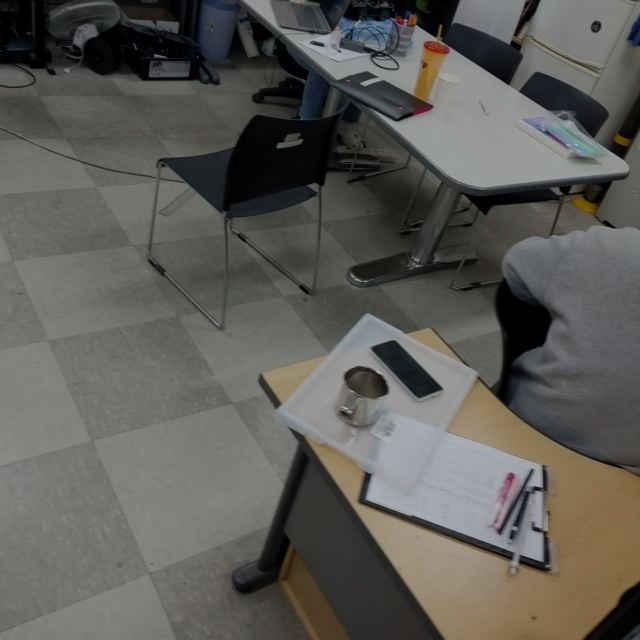cup: (332, 366, 389, 431)
phone: (368, 337, 444, 402)
